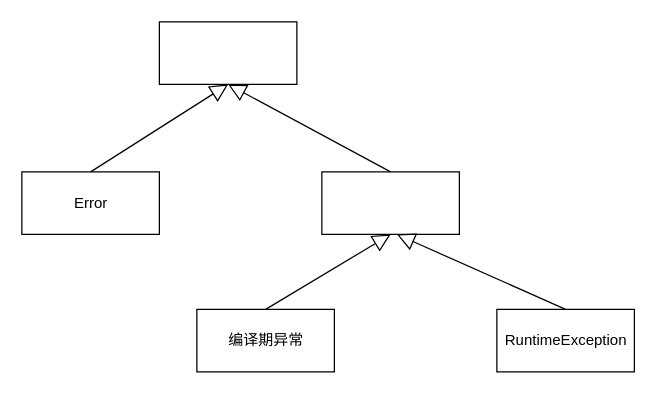
Some shapes in this 656 by 394 pixel diagram are drawn without their labels. The shapes that lost their labels are listed below. From the top down, each one's centre as x and y in pixels, then its label:
At [227,52]: "Throwable".
At [390,202]: "Exception".
